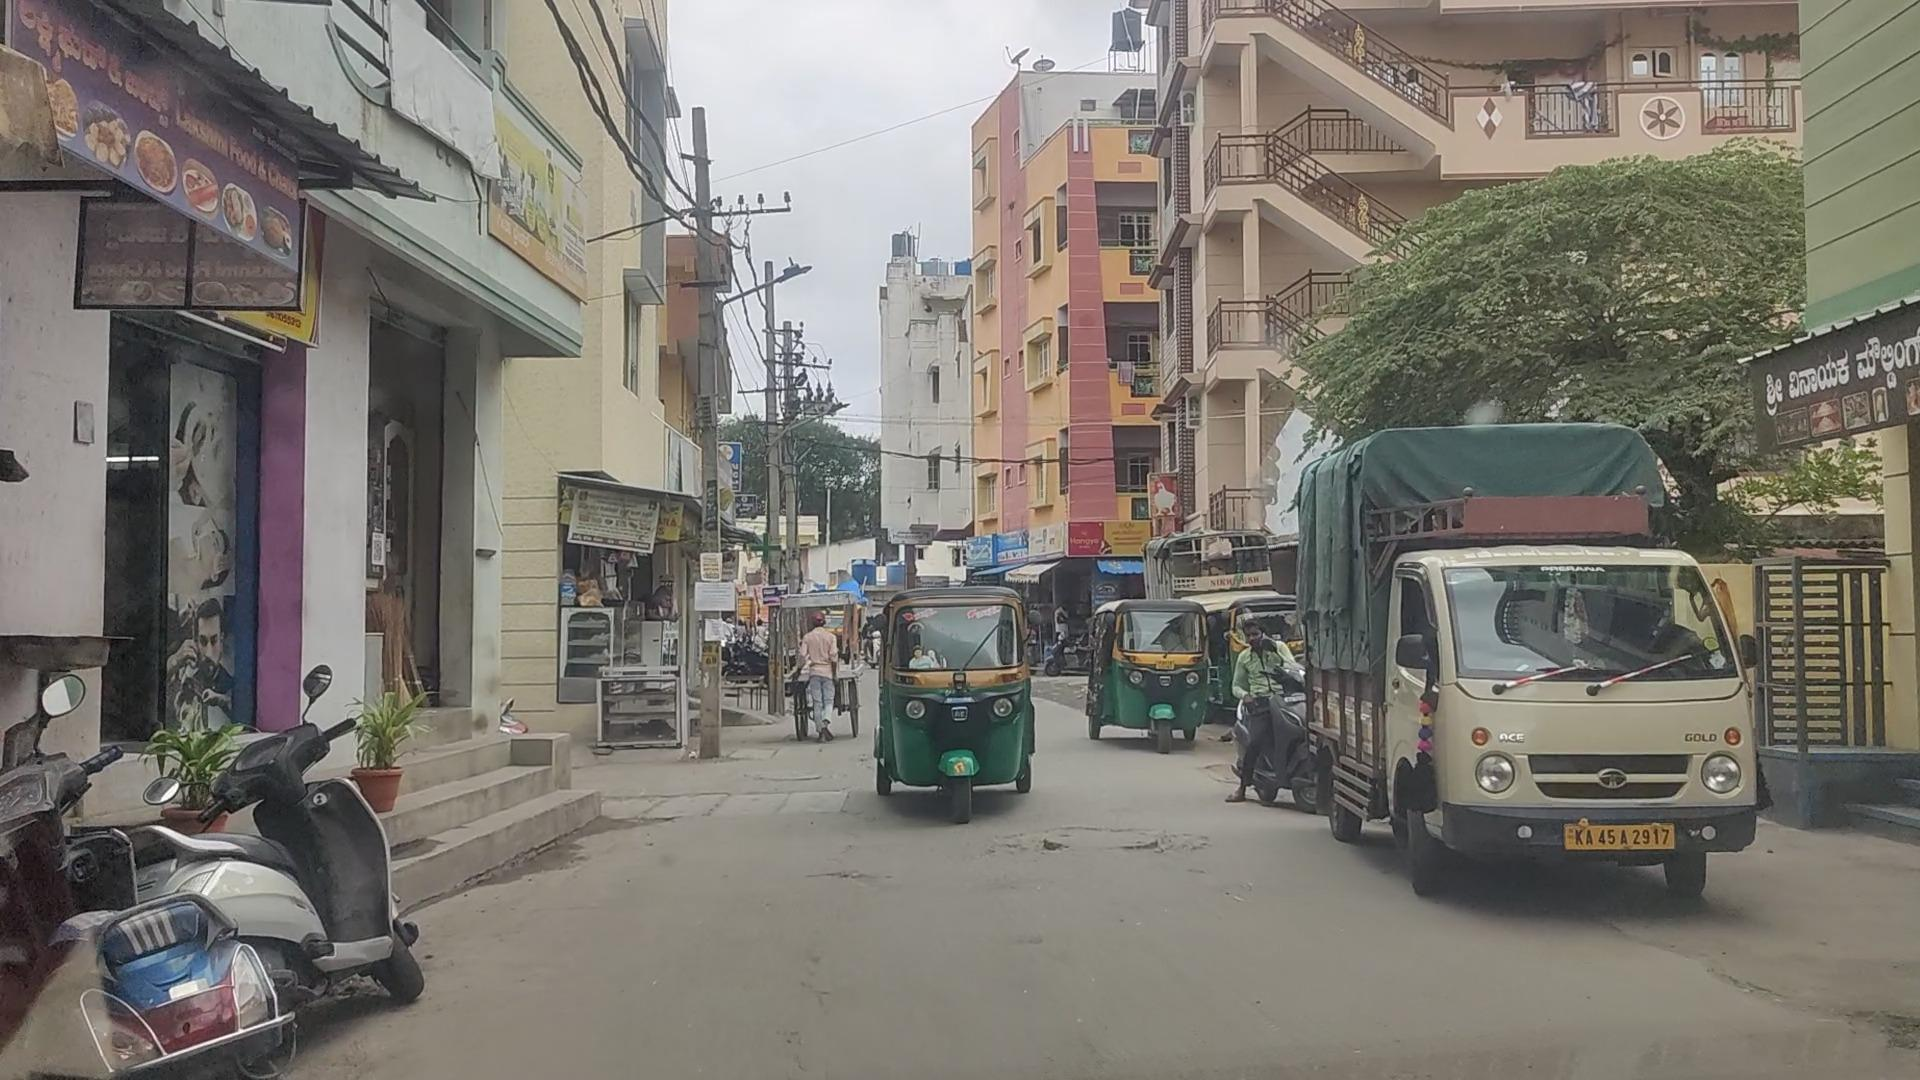HMV: (1291, 462, 1758, 919)
LMV: (874, 604, 1026, 807)
RoadDamages: (628, 771, 845, 828), (1040, 800, 1174, 870)
